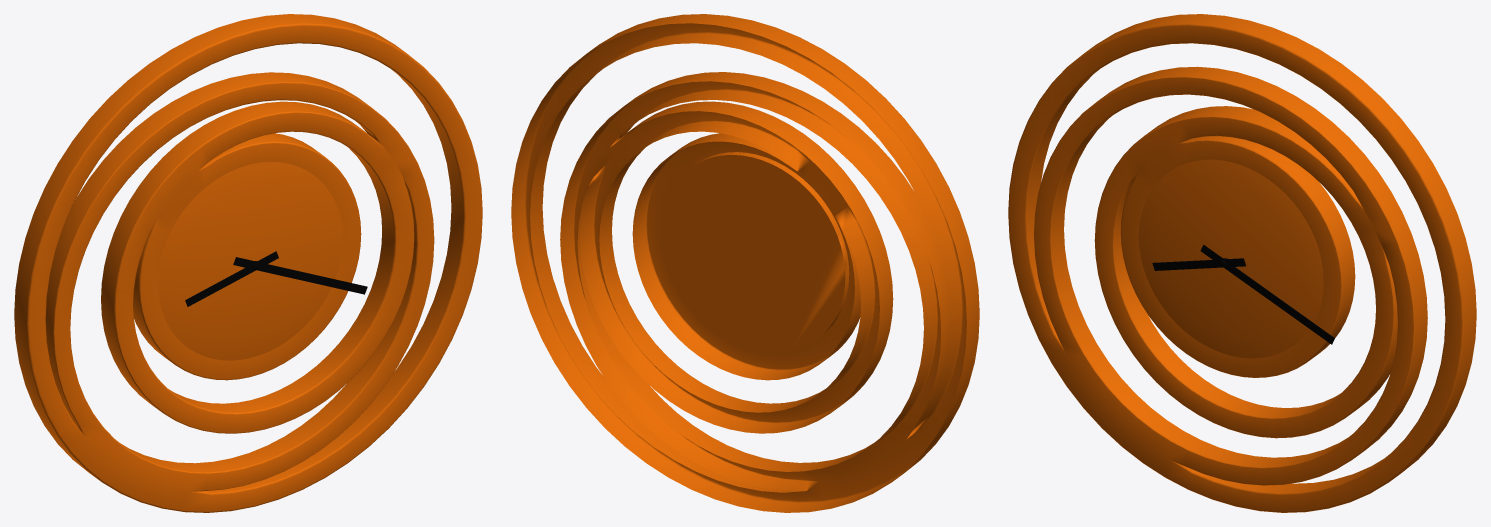
The model's file is saat005 (1).fbx.
3 views of the same model, side by side, from view 1: azimuth 30°, elevation 25°; view 2: azimuth 150°, elevation 25°; view 3: azimuth 330°, elevation 25° (orthographic).
Visible parts, largest first — view 1: saat5; view 2: saat5; view 3: saat5.
Part boxes in pixels (bbox=[...]): saat5: bbox=[14, 14, 482, 512]; saat5: bbox=[511, 14, 979, 512]; saat5: bbox=[1008, 14, 1476, 512].
Bounding box in the file's own units: 46.78 × 46.78 × 3.72.
